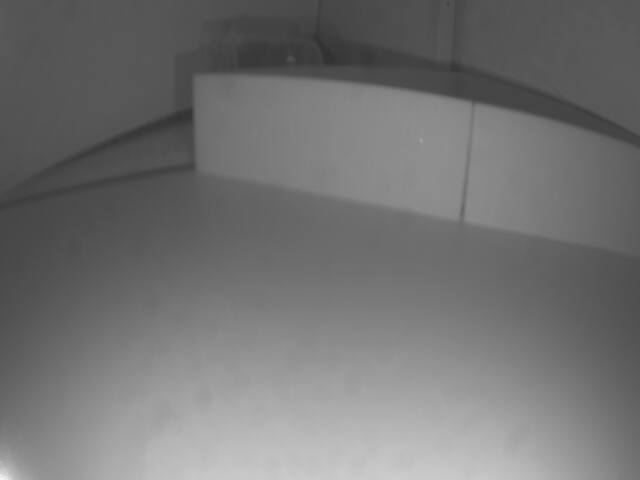Red: (187, 73, 638, 259)
